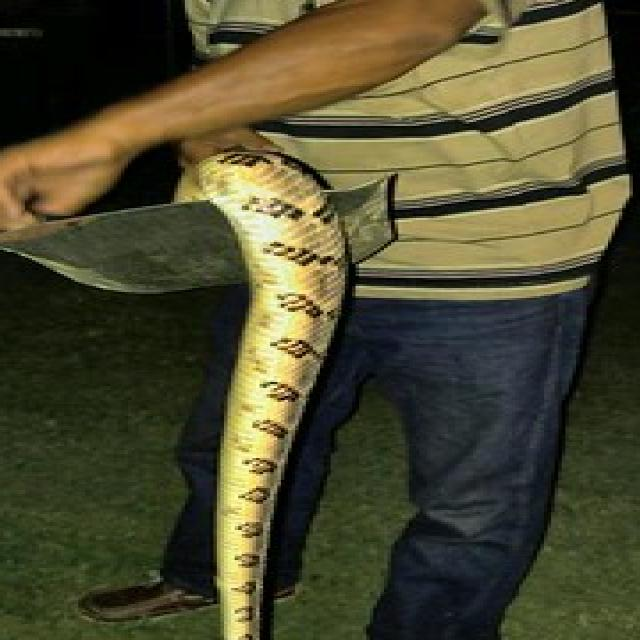Snake: (160, 146, 345, 640)
